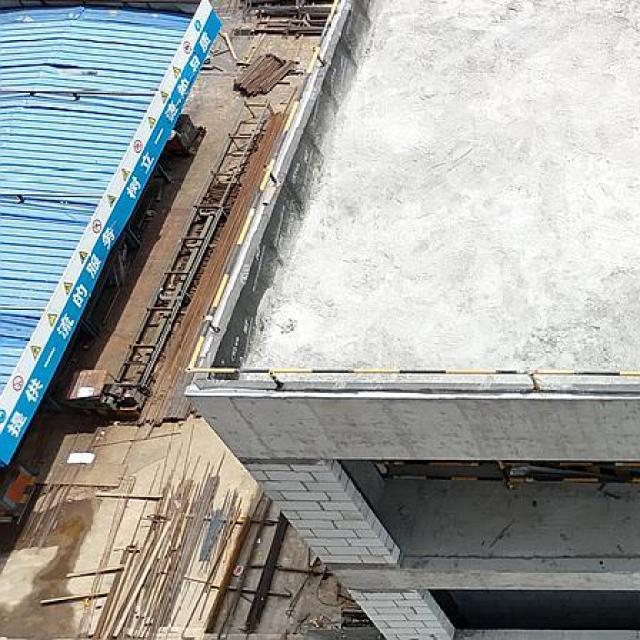edge_guardrail: (183, 0, 640, 391), (383, 458, 640, 486)
